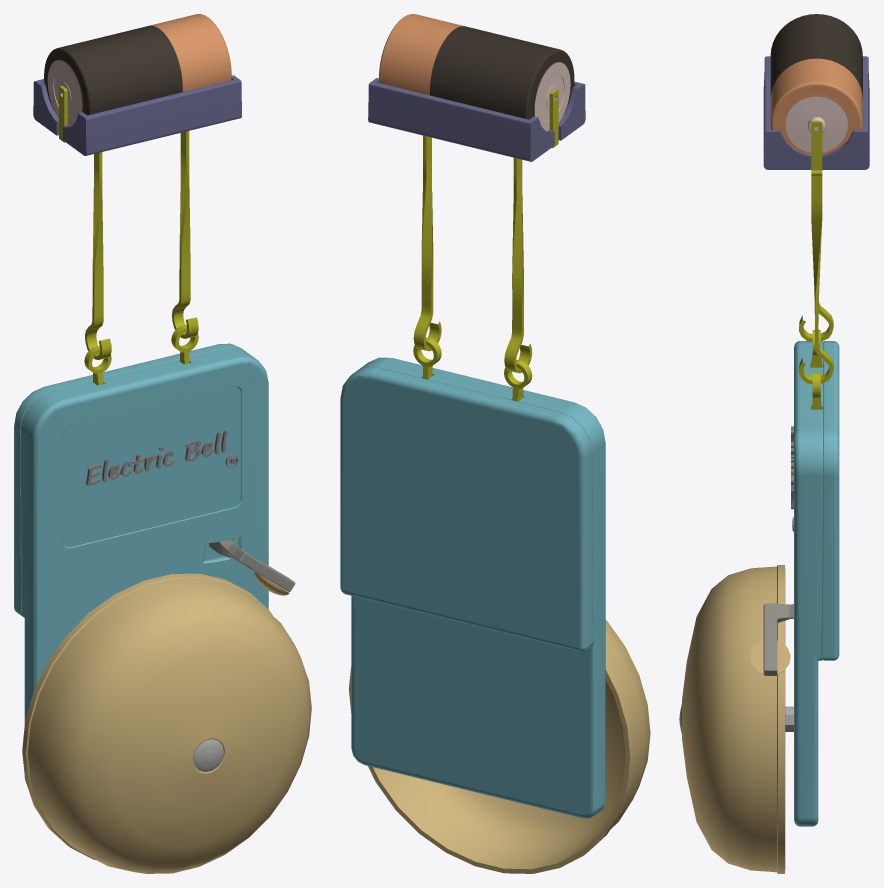
The model's file is bell.glb.
The picture shows the model from 3 angles, left to right: view 1: azimuth 30°, elevation 25°; view 2: azimuth 150°, elevation 25°; view 3: azimuth 270°, elevation 25°; orthographic projection. The views are drawn at different scales.
Parts seen in each view (by area): view 1: _bellShell, _case_front, batteryWithCase:case1, batteryWithCase:polySurface6, _copper_wire_group, batteryWithCase:polySurface3, _case_back, _label, batteryWithCase:polySurface5, polySurface7, pCylinder10; view 2: _case_back, _case_front, _bellShell, batteryWithCase:case1, batteryWithCase:polySurface6, _copper_wire_group, batteryWithCase:polySurface3, batteryWithCase:polySurface5; view 3: _bellShell, _case_front, _case_back, batteryWithCase:polySurface3, batteryWithCase:polySurface6, batteryWithCase:case1, _copper_wire_group, batteryWithCase:polySurface4, polySurface7, polySurface8, _switch_hand.
Boxes of the visible parts, bbox=[...] form: _bellShell: bbox=[22, 573, 311, 873]; _case_front: bbox=[20, 348, 268, 777]; batteryWithCase:case1: bbox=[33, 75, 241, 155]; batteryWithCase:polySurface6: bbox=[44, 25, 182, 115]; _copper_wire_group: bbox=[59, 86, 198, 385]; batteryWithCase:polySurface3: bbox=[150, 14, 231, 91]; _case_back: bbox=[14, 343, 245, 615]; _label: bbox=[86, 430, 238, 486]; batteryWithCase:polySurface5: bbox=[47, 60, 82, 126]; polySurface7: bbox=[209, 540, 295, 591]; pCylinder10: bbox=[193, 739, 223, 772]; _case_back: bbox=[340, 367, 592, 651]; _case_front: bbox=[351, 357, 605, 818]; _bellShell: bbox=[349, 620, 650, 873]; batteryWithCase:case1: bbox=[368, 78, 585, 161]; batteryWithCase:polySurface6: bbox=[430, 26, 574, 119]; _copper_wire_group: bbox=[413, 89, 558, 401]; batteryWithCase:polySurface3: bbox=[379, 14, 464, 95]; batteryWithCase:polySurface5: bbox=[534, 62, 570, 131]; _bellShell: bbox=[682, 565, 785, 873]; _case_front: bbox=[794, 341, 823, 826]; _case_back: bbox=[821, 341, 839, 660]; batteryWithCase:polySurface3: bbox=[770, 58, 862, 154]; batteryWithCase:polySurface6: bbox=[770, 14, 862, 99]; batteryWithCase:case1: bbox=[763, 56, 869, 169]; _copper_wire_group: bbox=[799, 170, 833, 409]; batteryWithCase:polySurface4: bbox=[785, 96, 847, 152]; polySurface7: bbox=[763, 603, 793, 675]; polySurface8: bbox=[750, 640, 790, 674]; _switch_hand: bbox=[811, 121, 822, 170].
Size of the model in its own units: 42.26 by 122 by 25.9.
